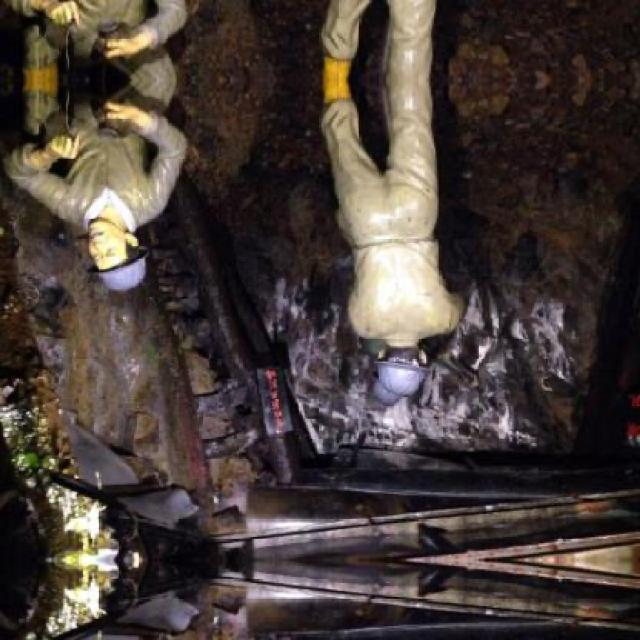con casco: (352, 314, 508, 420), (82, 206, 178, 301)
